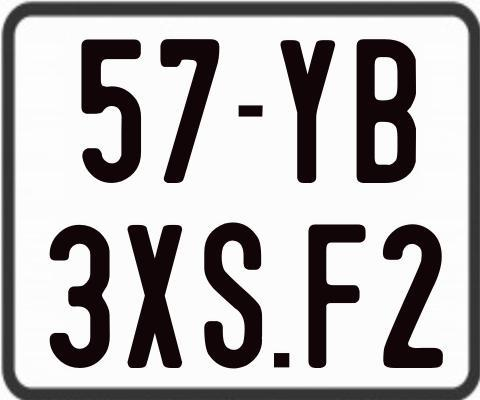2: (382, 222, 445, 366)
3: (49, 222, 109, 371)
5: (79, 36, 139, 184)
7: (157, 36, 217, 186)
B: (354, 37, 413, 183)
F: (306, 221, 367, 369)
S: (204, 220, 264, 368)
X: (127, 223, 184, 368)
Y: (278, 38, 332, 182)
